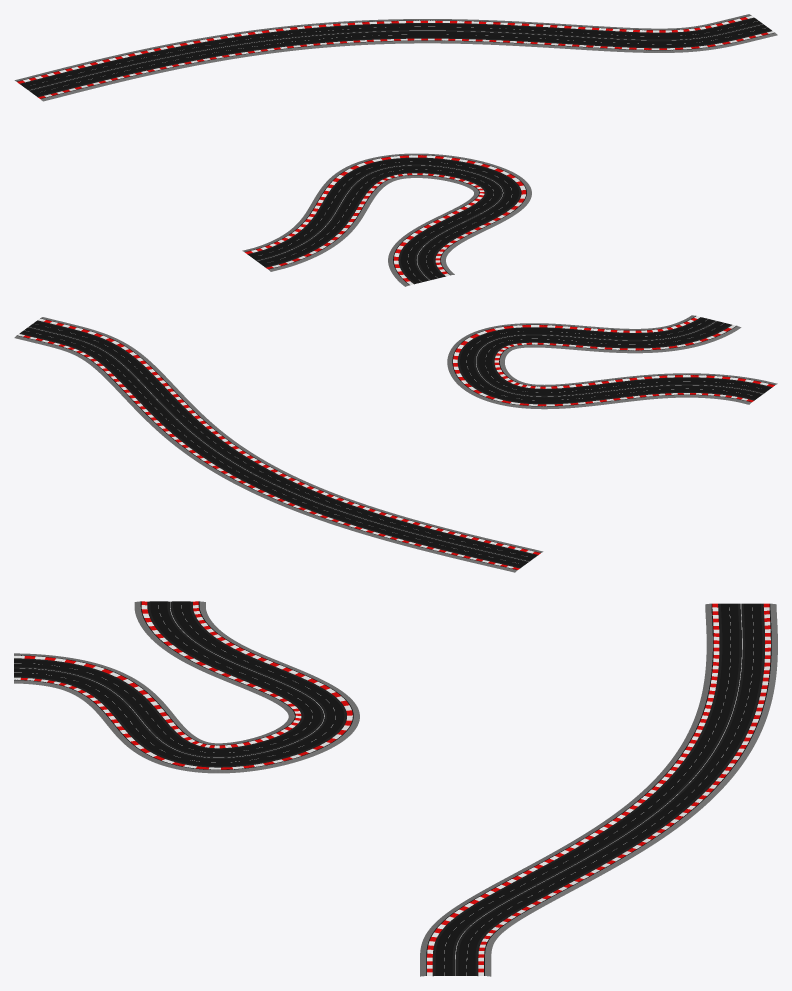
The model's file is S0.2c1-1r3-triway.glb.
3 renders of one model, top to bottom at view 1: azimuth 30°, elevation 25°; view 2: azimuth 150°, elevation 25°; view 3: azimuth 270°, elevation 25°, orthographic. The views are drawn at different scales.
Parts seen in each view (by area): view 1: Grid.002, Grid; view 2: Grid.002, Grid; view 3: Grid.002, Grid.
Part boxes in pixels (x1,y1,x2,y2): Grid.002: [14, 14, 777, 101]; Grid: [242, 153, 531, 286]; Grid.002: [14, 317, 543, 572]; Grid: [447, 315, 777, 409]; Grid.002: [420, 603, 777, 976]; Grid: [14, 601, 359, 773].
Size of the model in its own units: 311 by 0.31 by 268.
